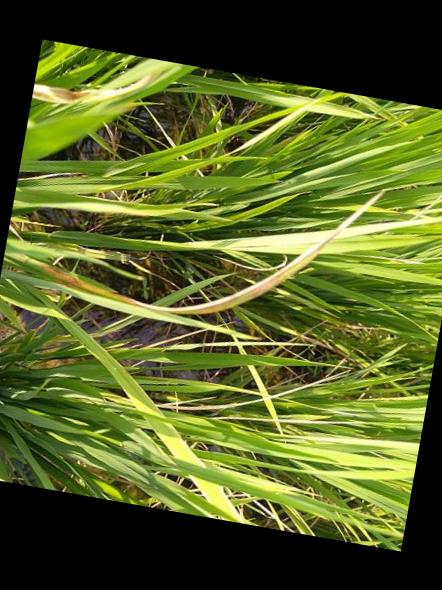Leaf Blight: (35, 190, 381, 314)
